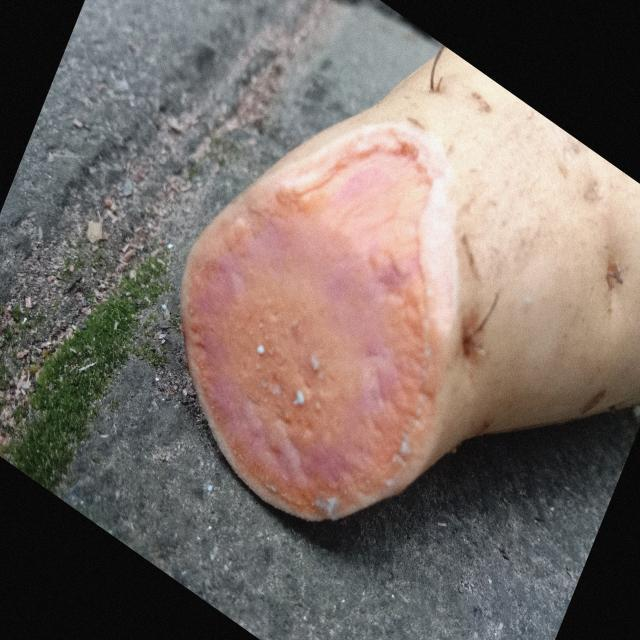Healthy Sweet Potato: (182, 152, 458, 520)
